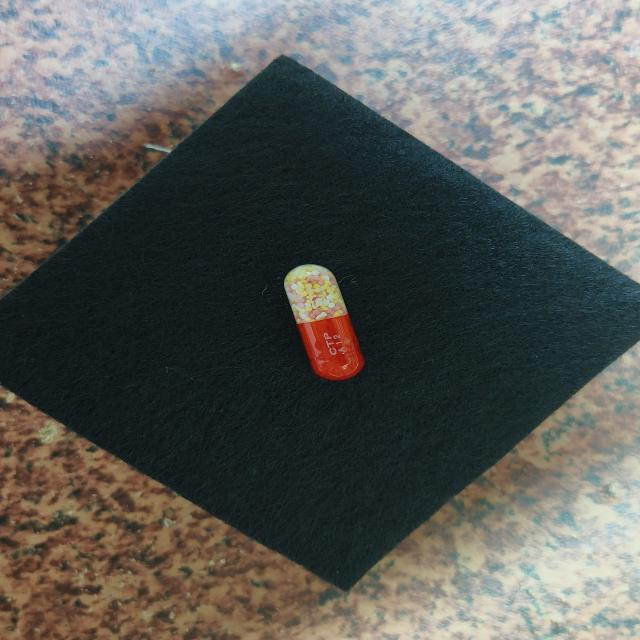Intact Capsule: (284, 264, 365, 380)
